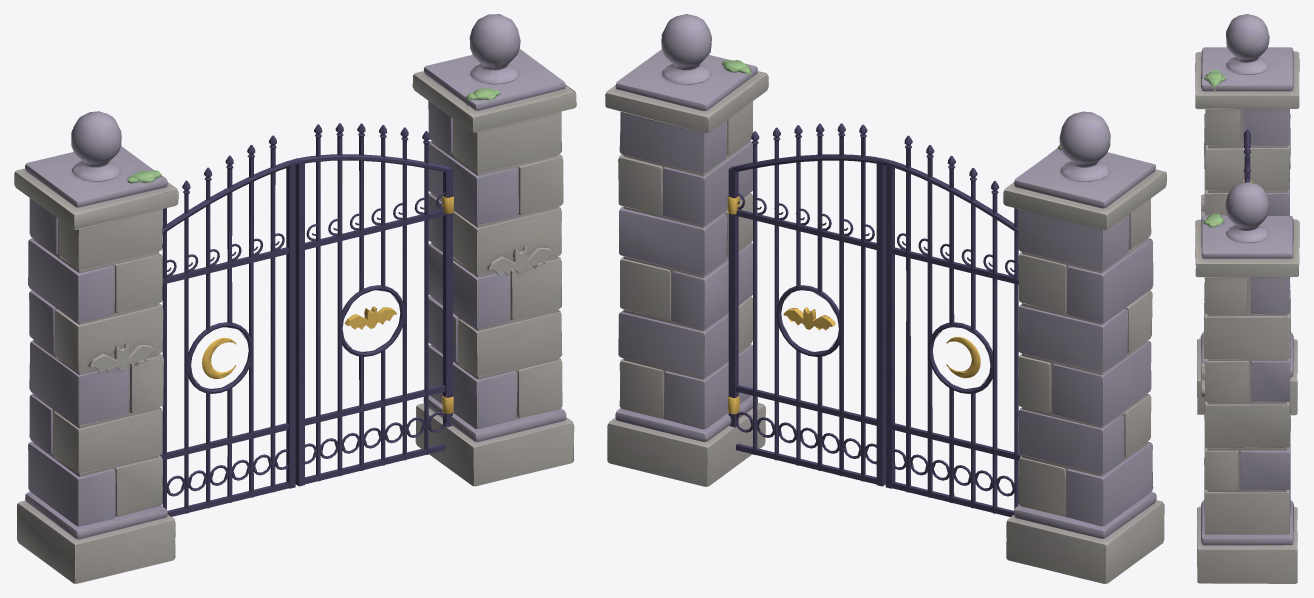
The model's file is puerta_cementerio.glb.
3 renders of one model, left to right at view 1: azimuth 30°, elevation 25°; view 2: azimuth 150°, elevation 25°; view 3: azimuth 270°, elevation 25°, orthographic. The views are drawn at different scales.
Visible parts, largest first — view 1: cemetery-gate_body; view 2: cemetery-gate_body; view 3: cemetery-gate_body.
Part boxes in pixels (<box>): cemetery-gate_body: <box>14,14,576,583</box>; cemetery-gate_body: <box>605,14,1166,583</box>; cemetery-gate_body: <box>1195,14,1299,583</box>.
Bounding box in the file's own units: 3.05 × 2.54 × 0.6354.
3 materials, 3 textured.
